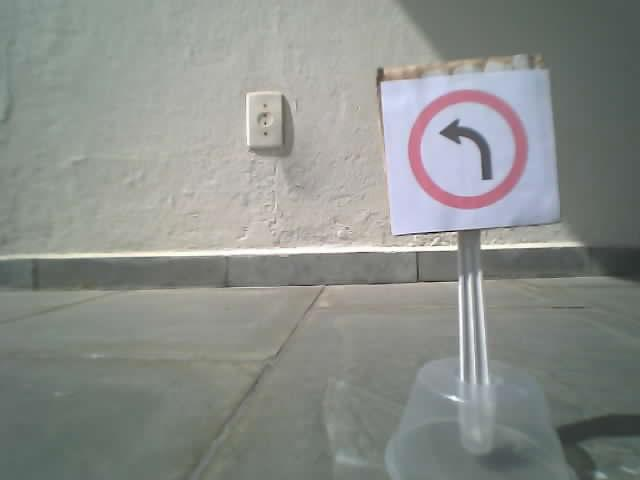R-25a_esquerda: (407, 89, 528, 211)
